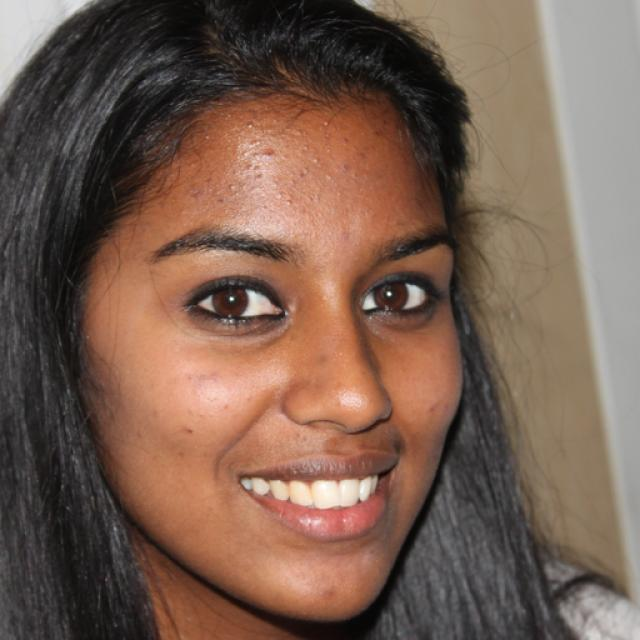Acne: (243, 163, 270, 184), (236, 148, 265, 162), (278, 195, 299, 210), (239, 117, 258, 133), (293, 142, 316, 155), (292, 125, 310, 141), (317, 116, 335, 131), (220, 181, 239, 193), (321, 168, 333, 186), (272, 188, 290, 200), (309, 153, 323, 166)
